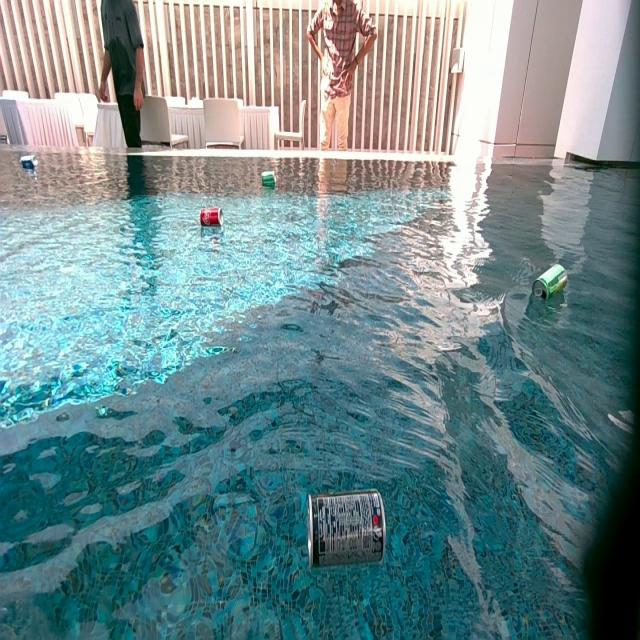Cans: (306, 493, 386, 575), (533, 265, 570, 303), (200, 208, 223, 228), (22, 156, 38, 171), (263, 172, 277, 187)
